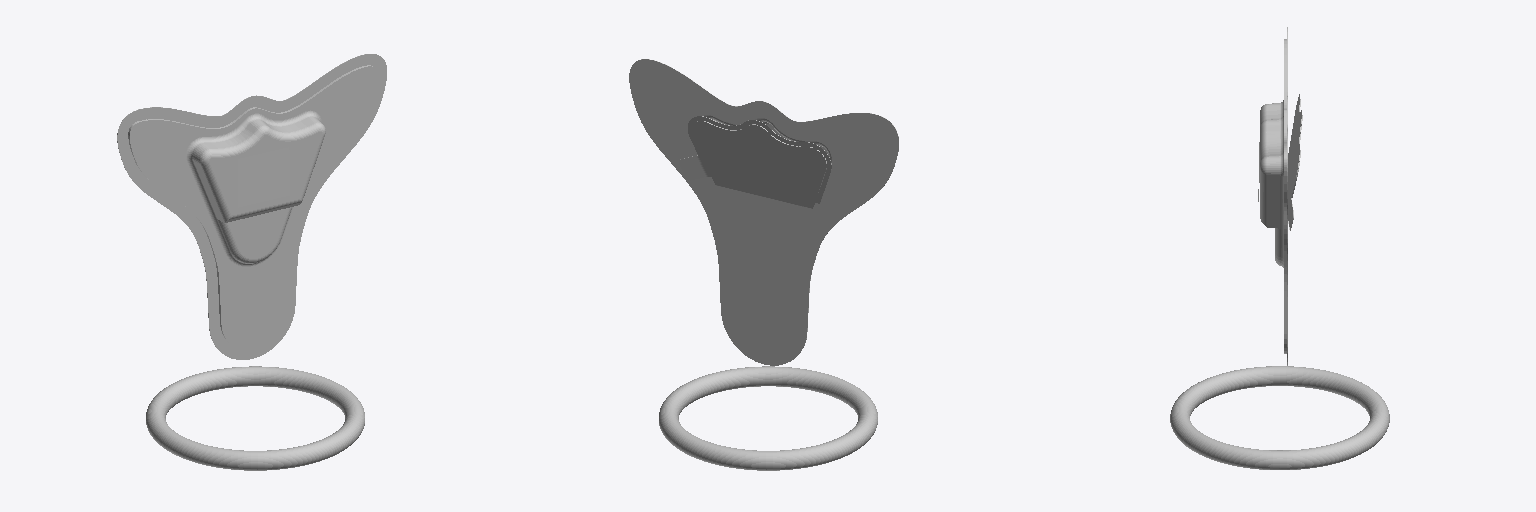
The picture shows the model from 3 angles: view 1: azimuth 30°, elevation 25°; view 2: azimuth 150°, elevation 25°; view 3: azimuth 270°, elevation 25°; orthographic projection.
Visible parts, largest first — view 1: VS-100-E3, Torus.004, Icone_patch_Inomedis; view 2: VS-100-E3, Torus.004; view 3: Torus.004, VS-100-E3.
Part boxes in pixels (left/top/right/bottom): VS-100-E3: left=117, top=54, right=386, bottom=359; Torus.004: left=146, top=366, right=364, bottom=470; Icone_patch_Inomedis: left=238, top=147, right=289, bottom=207; VS-100-E3: left=629, top=59, right=898, bottom=365; Torus.004: left=659, top=366, right=877, bottom=470; Torus.004: left=1170, top=366, right=1389, bottom=469; VS-100-E3: left=1260, top=27, right=1302, bottom=365.
Bounding box in the file's own units: 1.25 × 1.52 × 0.88.